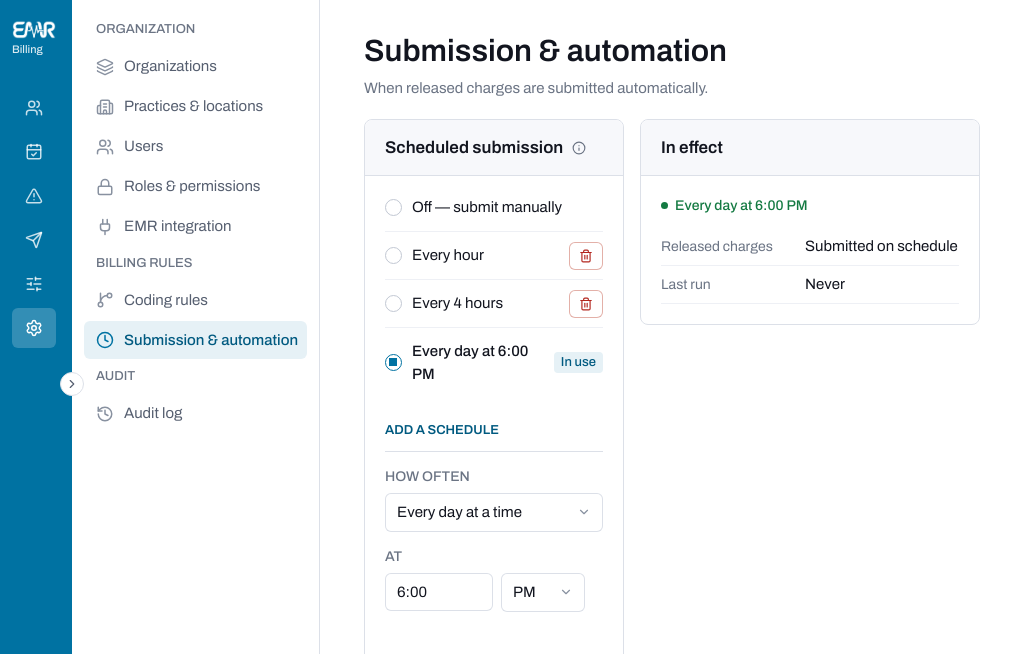
Test: Admin → Submission & automation › deletes a schedule after asking, and it is no longer offered
Click the button named "Delete schedule Every hour".
click(586, 256)  # box [569,242,603,270]
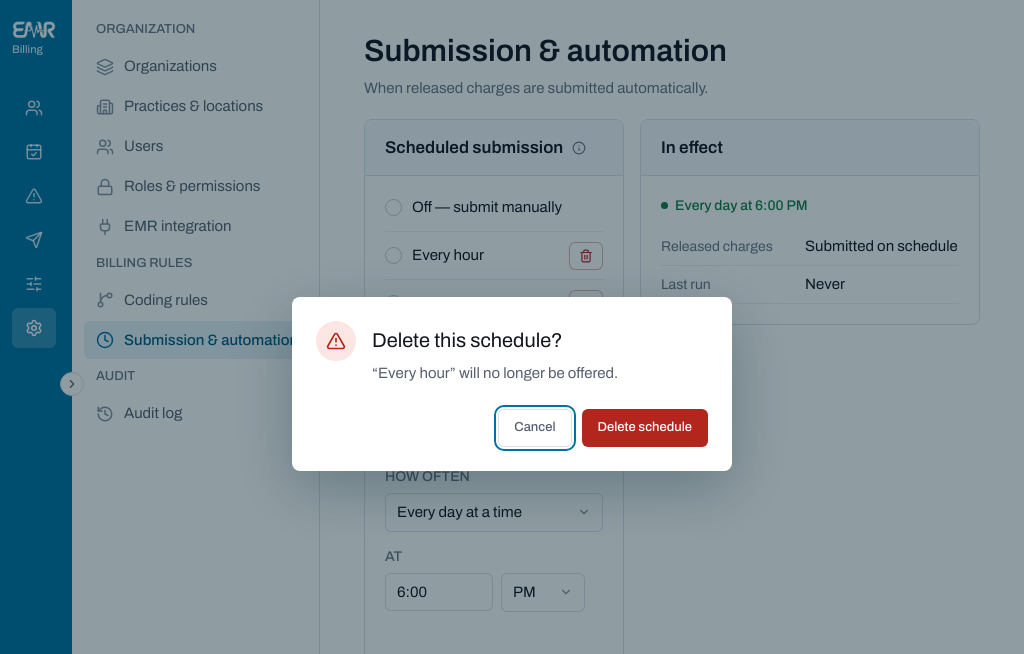
Result: the text "“Every hour” will no longer be offered." is shown at [372,365,618,381]
Click the button "Delete schedule".
click(645, 428)  # box [582,409,708,447]
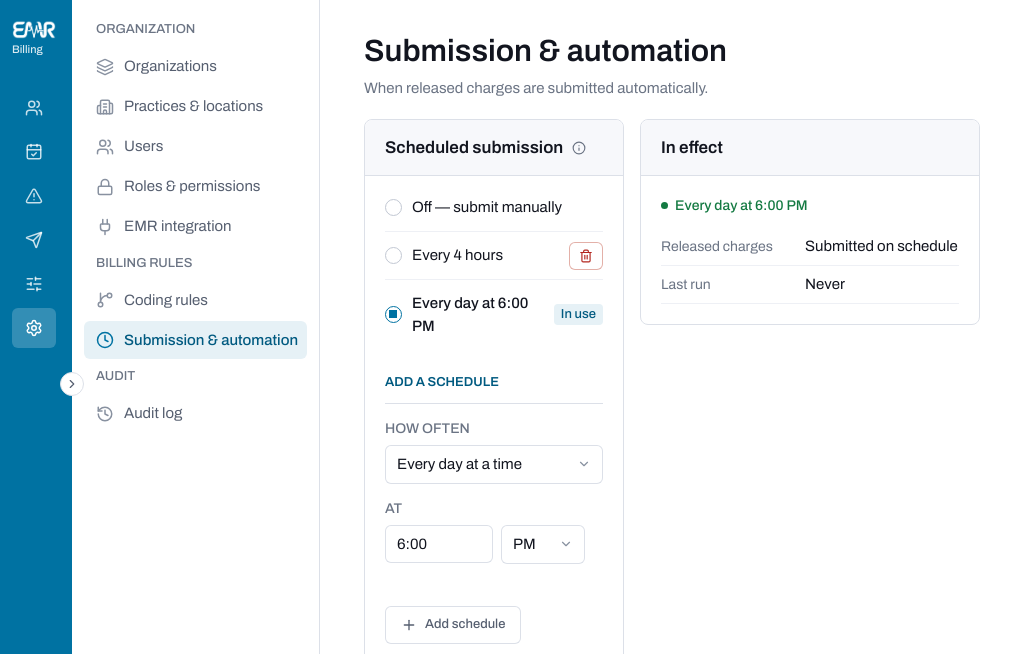
Result: the text "Every hour" is gone
